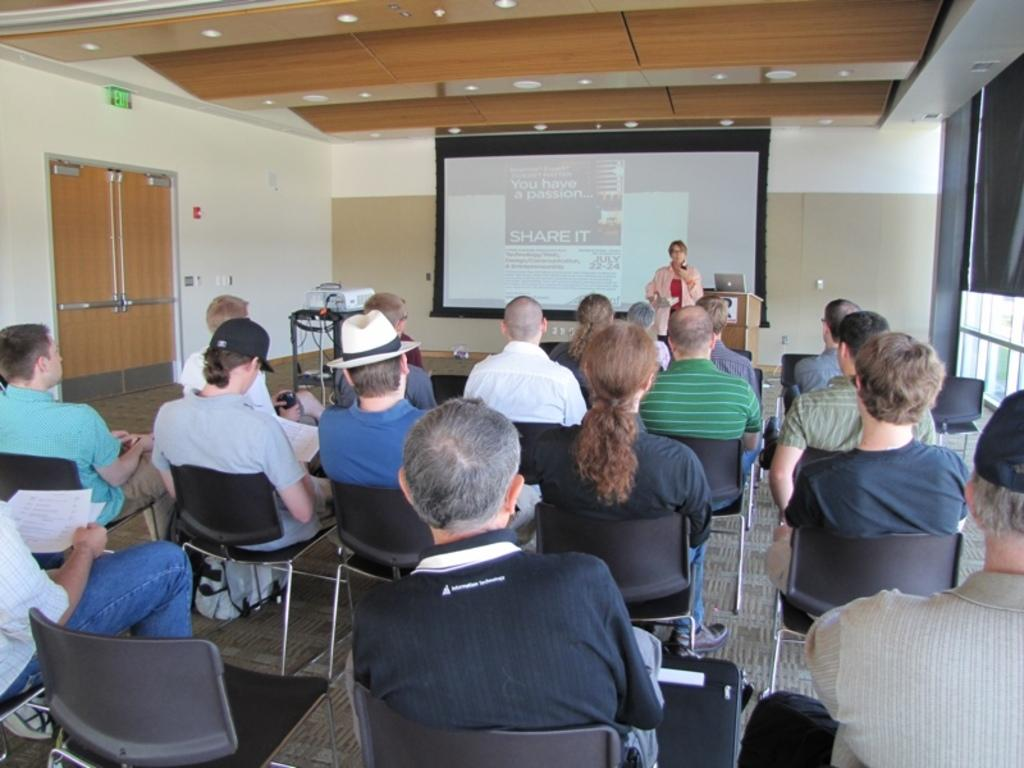Hat: (324, 304, 420, 374), (971, 386, 1022, 488)
